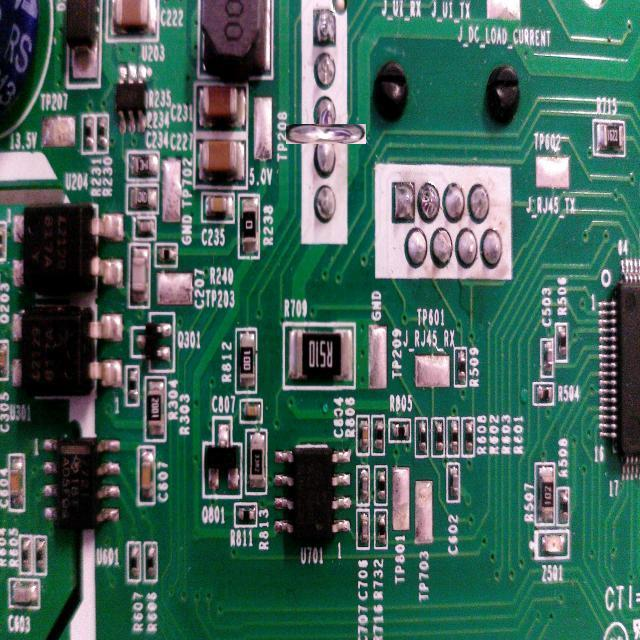Short_circuit: (300, 109, 351, 160)
